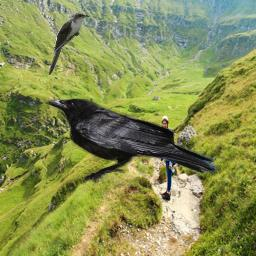Crow: (45, 97, 217, 185)
Cuckoo: (47, 12, 90, 76)
